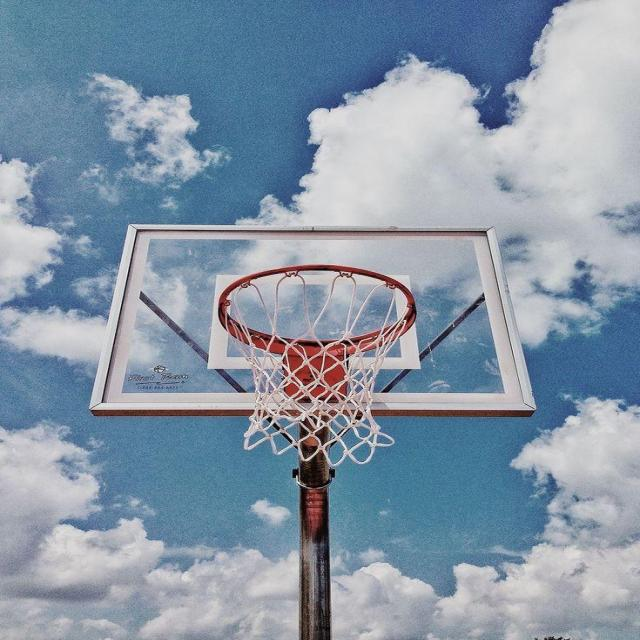hoop: (190, 249, 428, 473)
